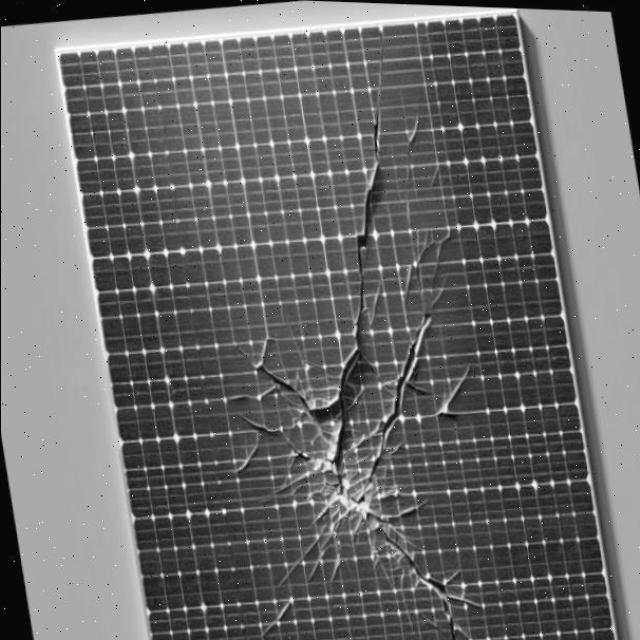Anomaly Solar Panel: (57, 6, 612, 640)
Structural Damage: (333, 218, 491, 553), (374, 500, 497, 640), (346, 24, 386, 344), (292, 336, 381, 459), (227, 314, 329, 411), (233, 399, 315, 461), (271, 528, 319, 582), (431, 355, 467, 417), (423, 220, 449, 296), (310, 450, 347, 503), (404, 98, 418, 224), (230, 423, 259, 473), (255, 594, 290, 635), (392, 562, 410, 632), (353, 341, 384, 381), (221, 380, 274, 400), (299, 541, 323, 579), (349, 488, 374, 523), (364, 275, 381, 325), (428, 270, 447, 302), (400, 258, 410, 298), (403, 375, 428, 390), (427, 157, 439, 182), (282, 450, 291, 464)
